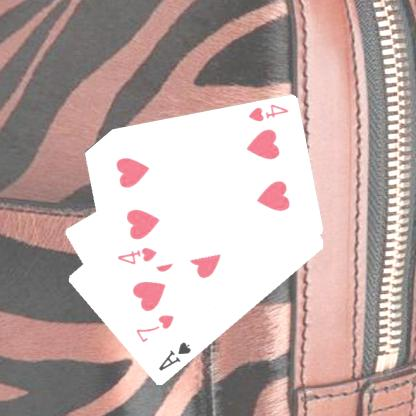4H: (245, 101, 290, 124), (114, 244, 158, 266)
7H: (132, 312, 176, 344)
AS: (155, 340, 193, 373)
